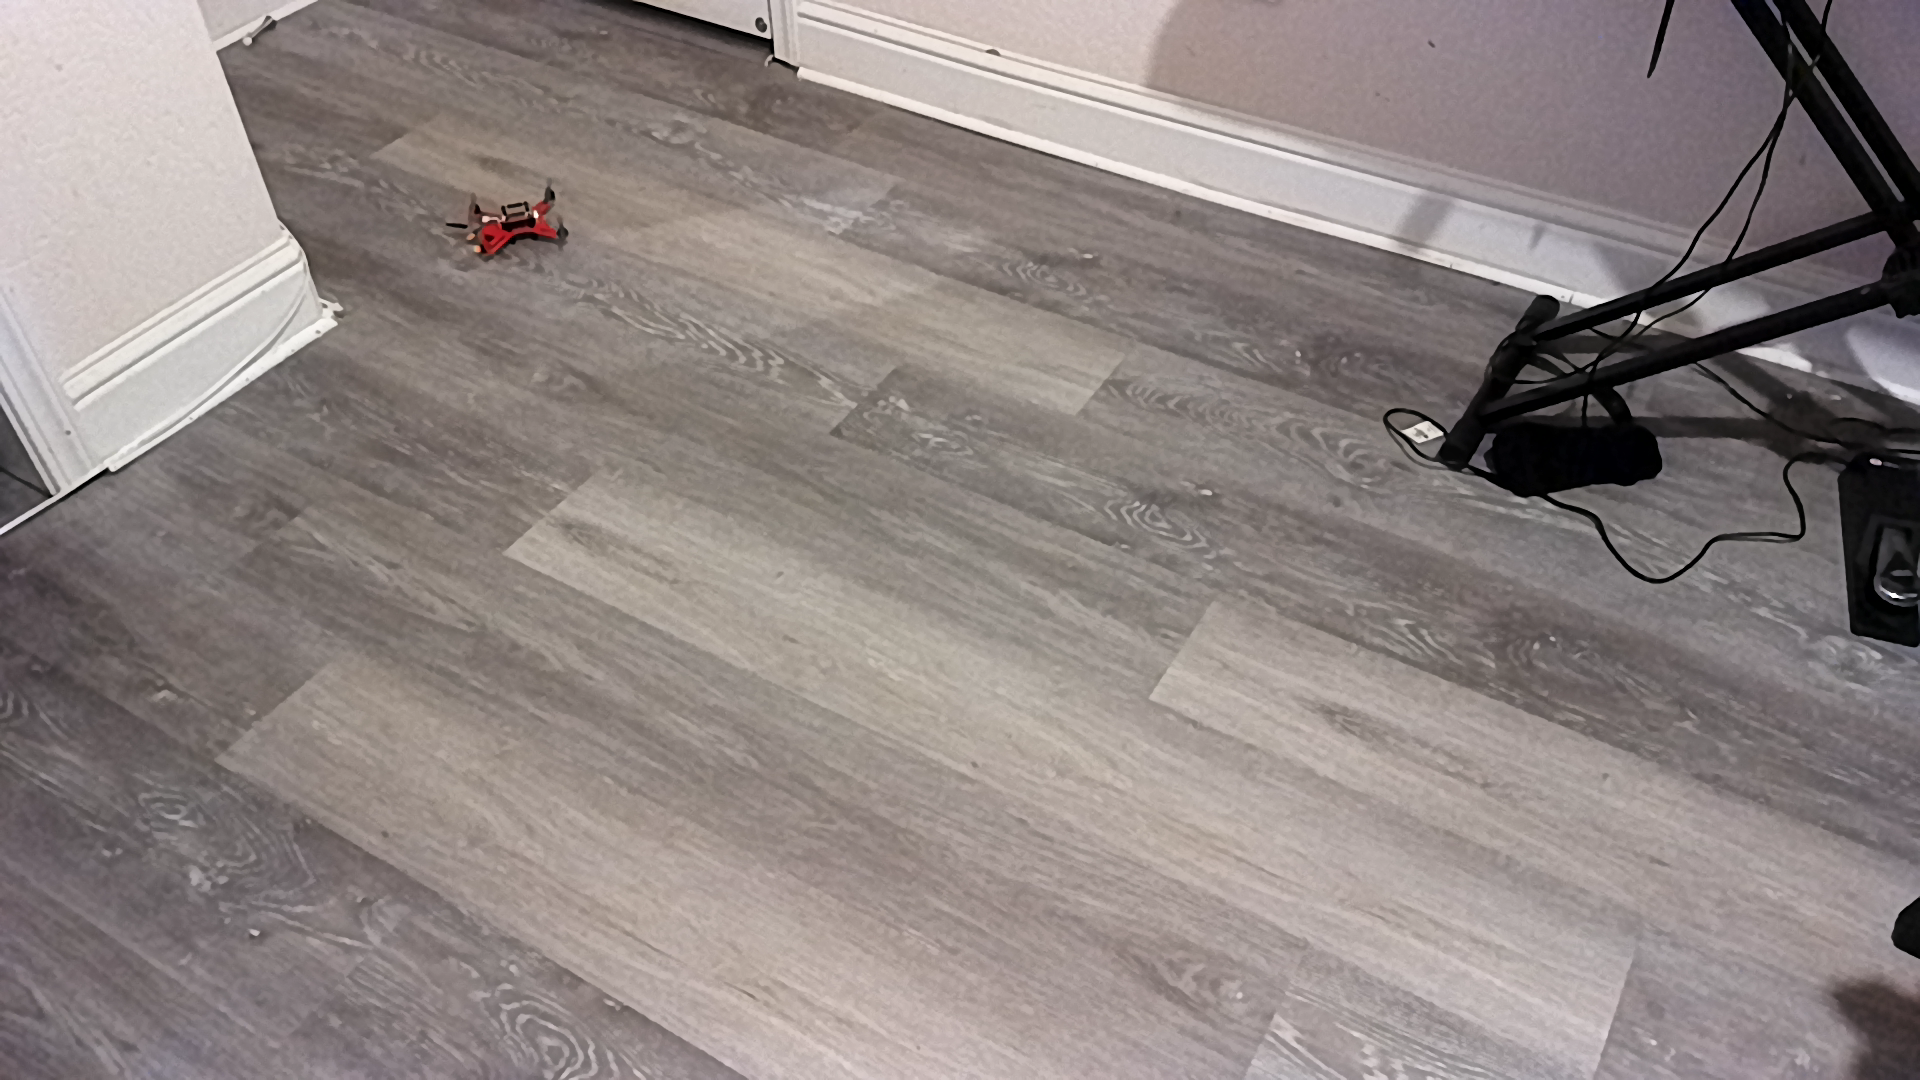drone: (436, 181, 593, 273)
